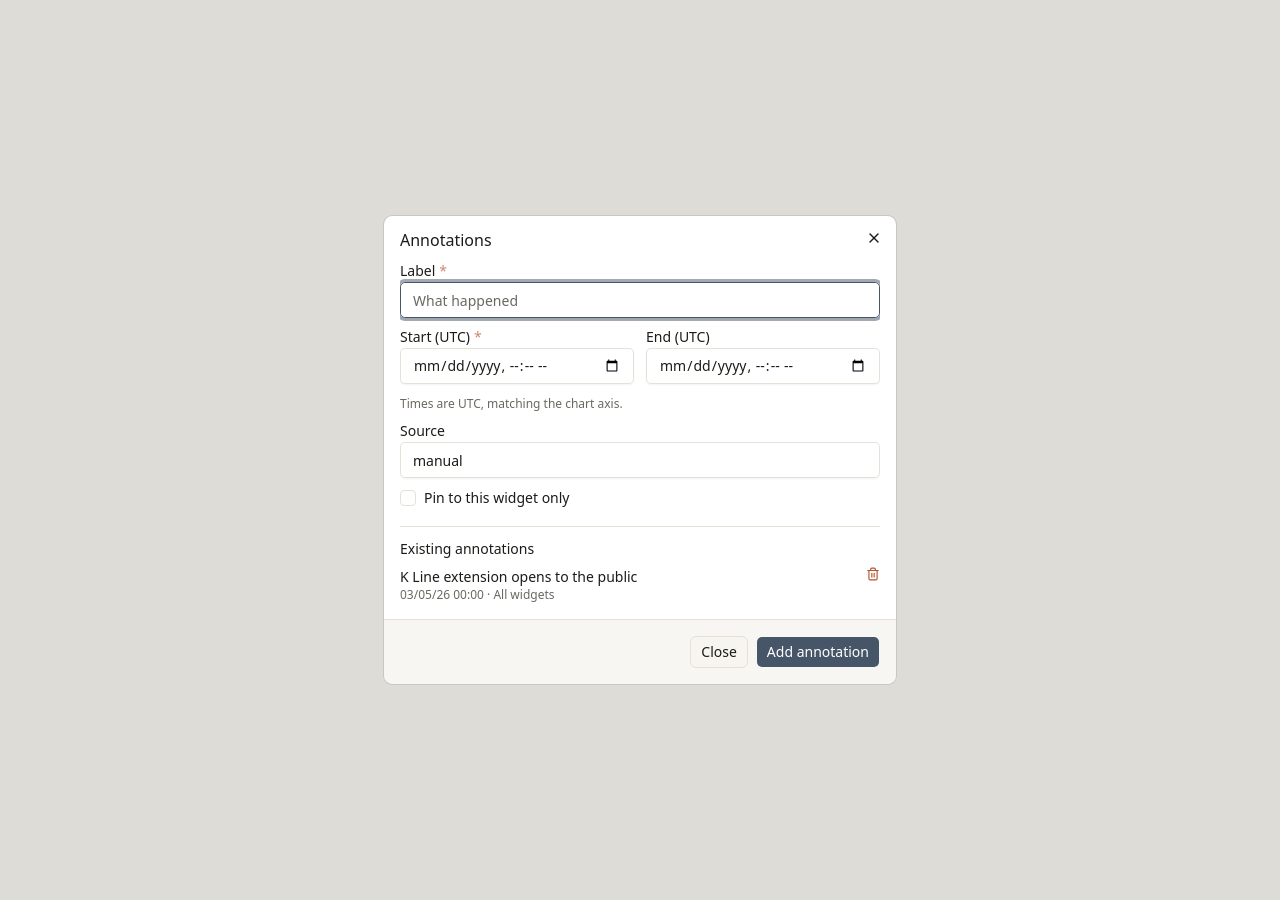
AnnotationDialog › says so when the write is refused, instead of clearing as though it saved
In the field labelled "Label*": x=640, y=300 [400,282,880,318], type "Signal outage"
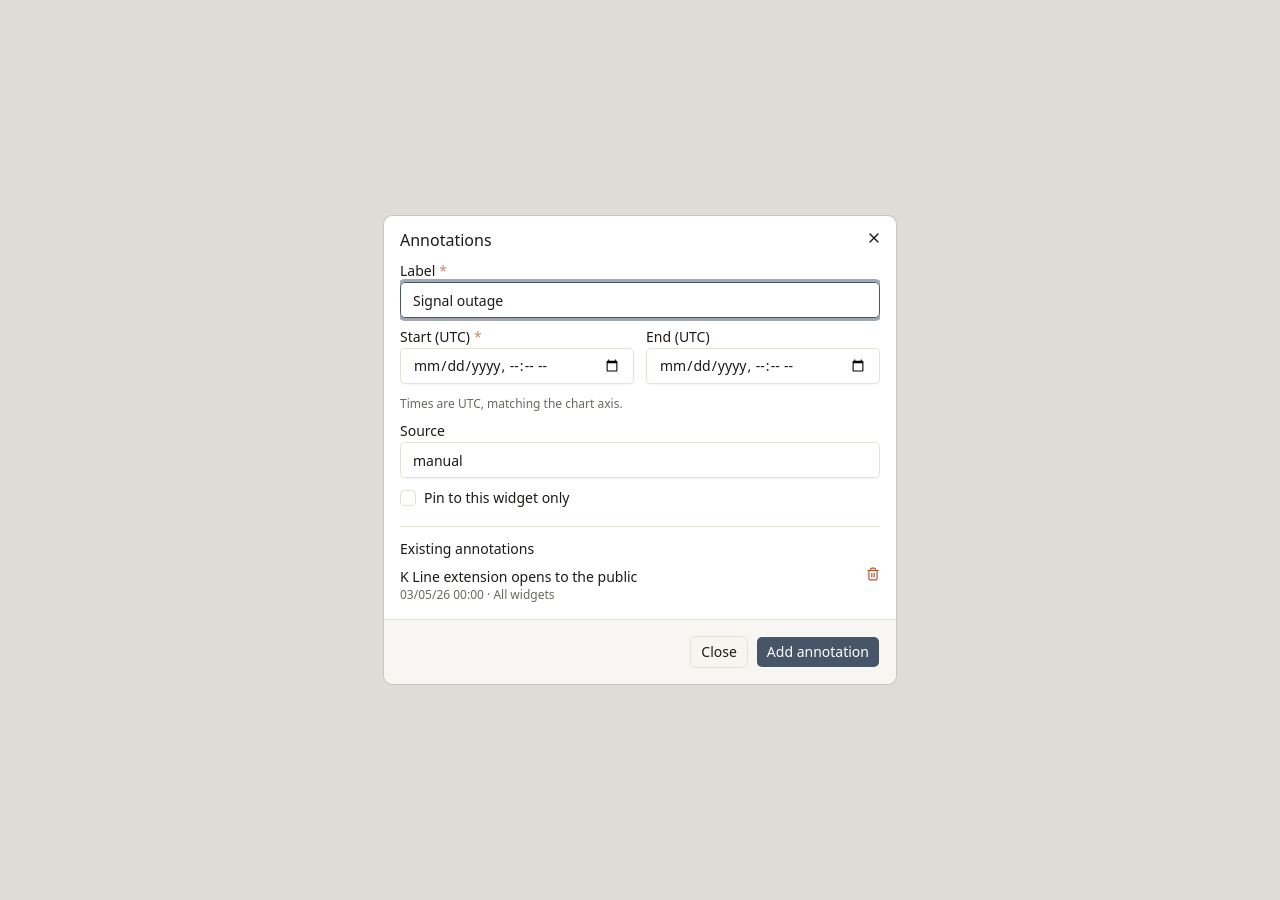
In the field labelled "Start (UTC)*": x=517, y=366 [400,348,634,384], type "2026-04-01T09:00"
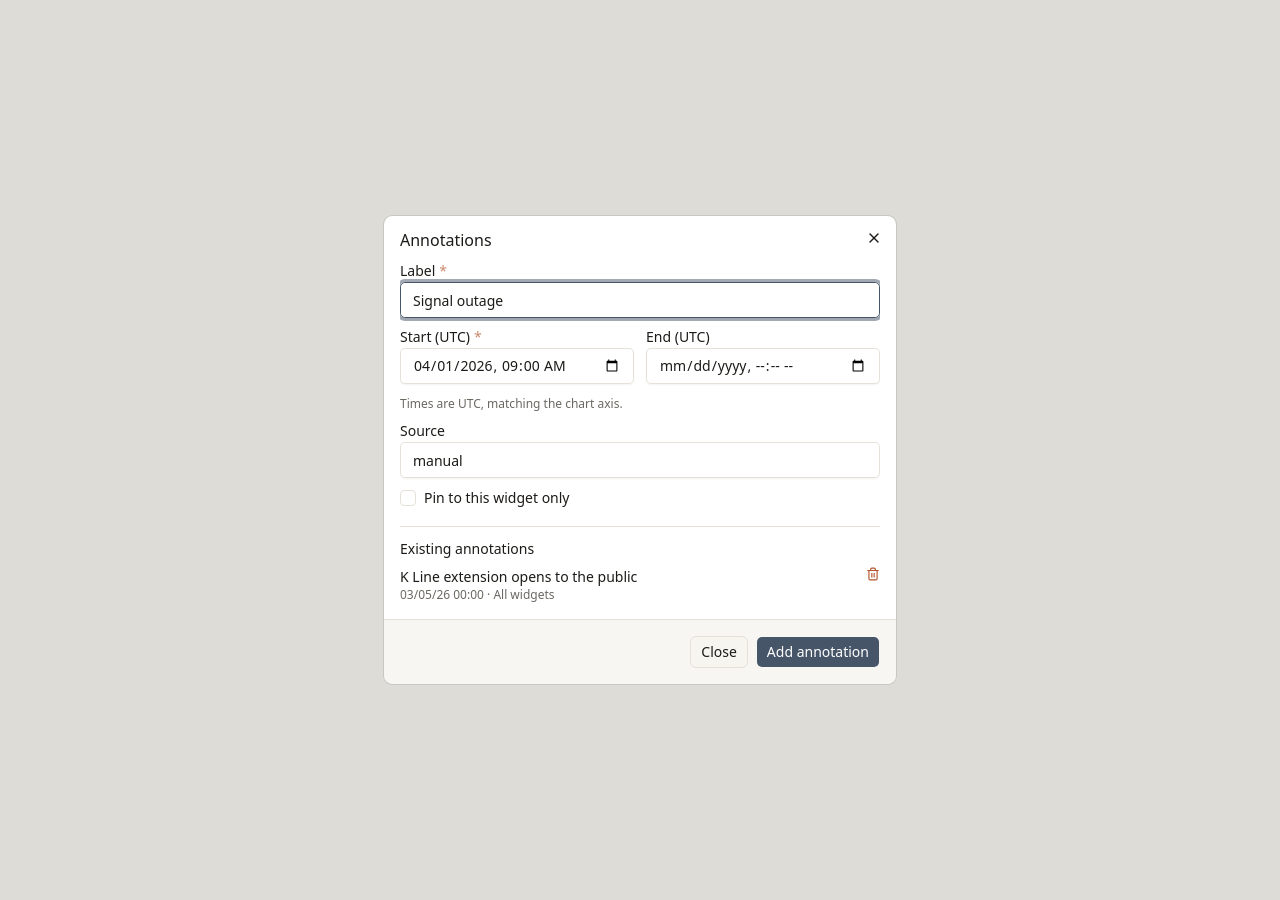
Click the button "Add annotation": x=818, y=652 [756,636,880,668]
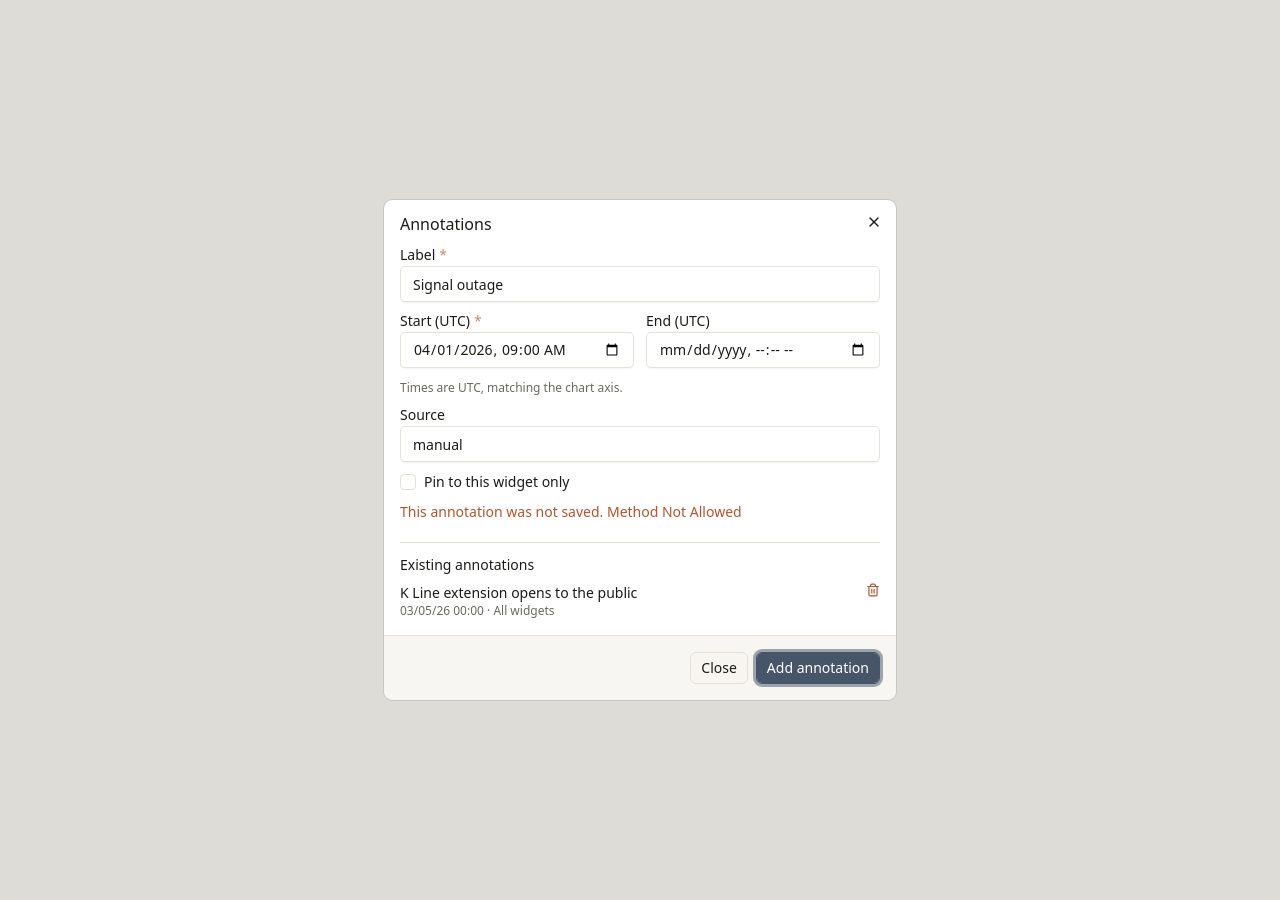
Expected: the text "This annotation was not saved. Method Not Allowed" is shown, [400,502,742,521]
